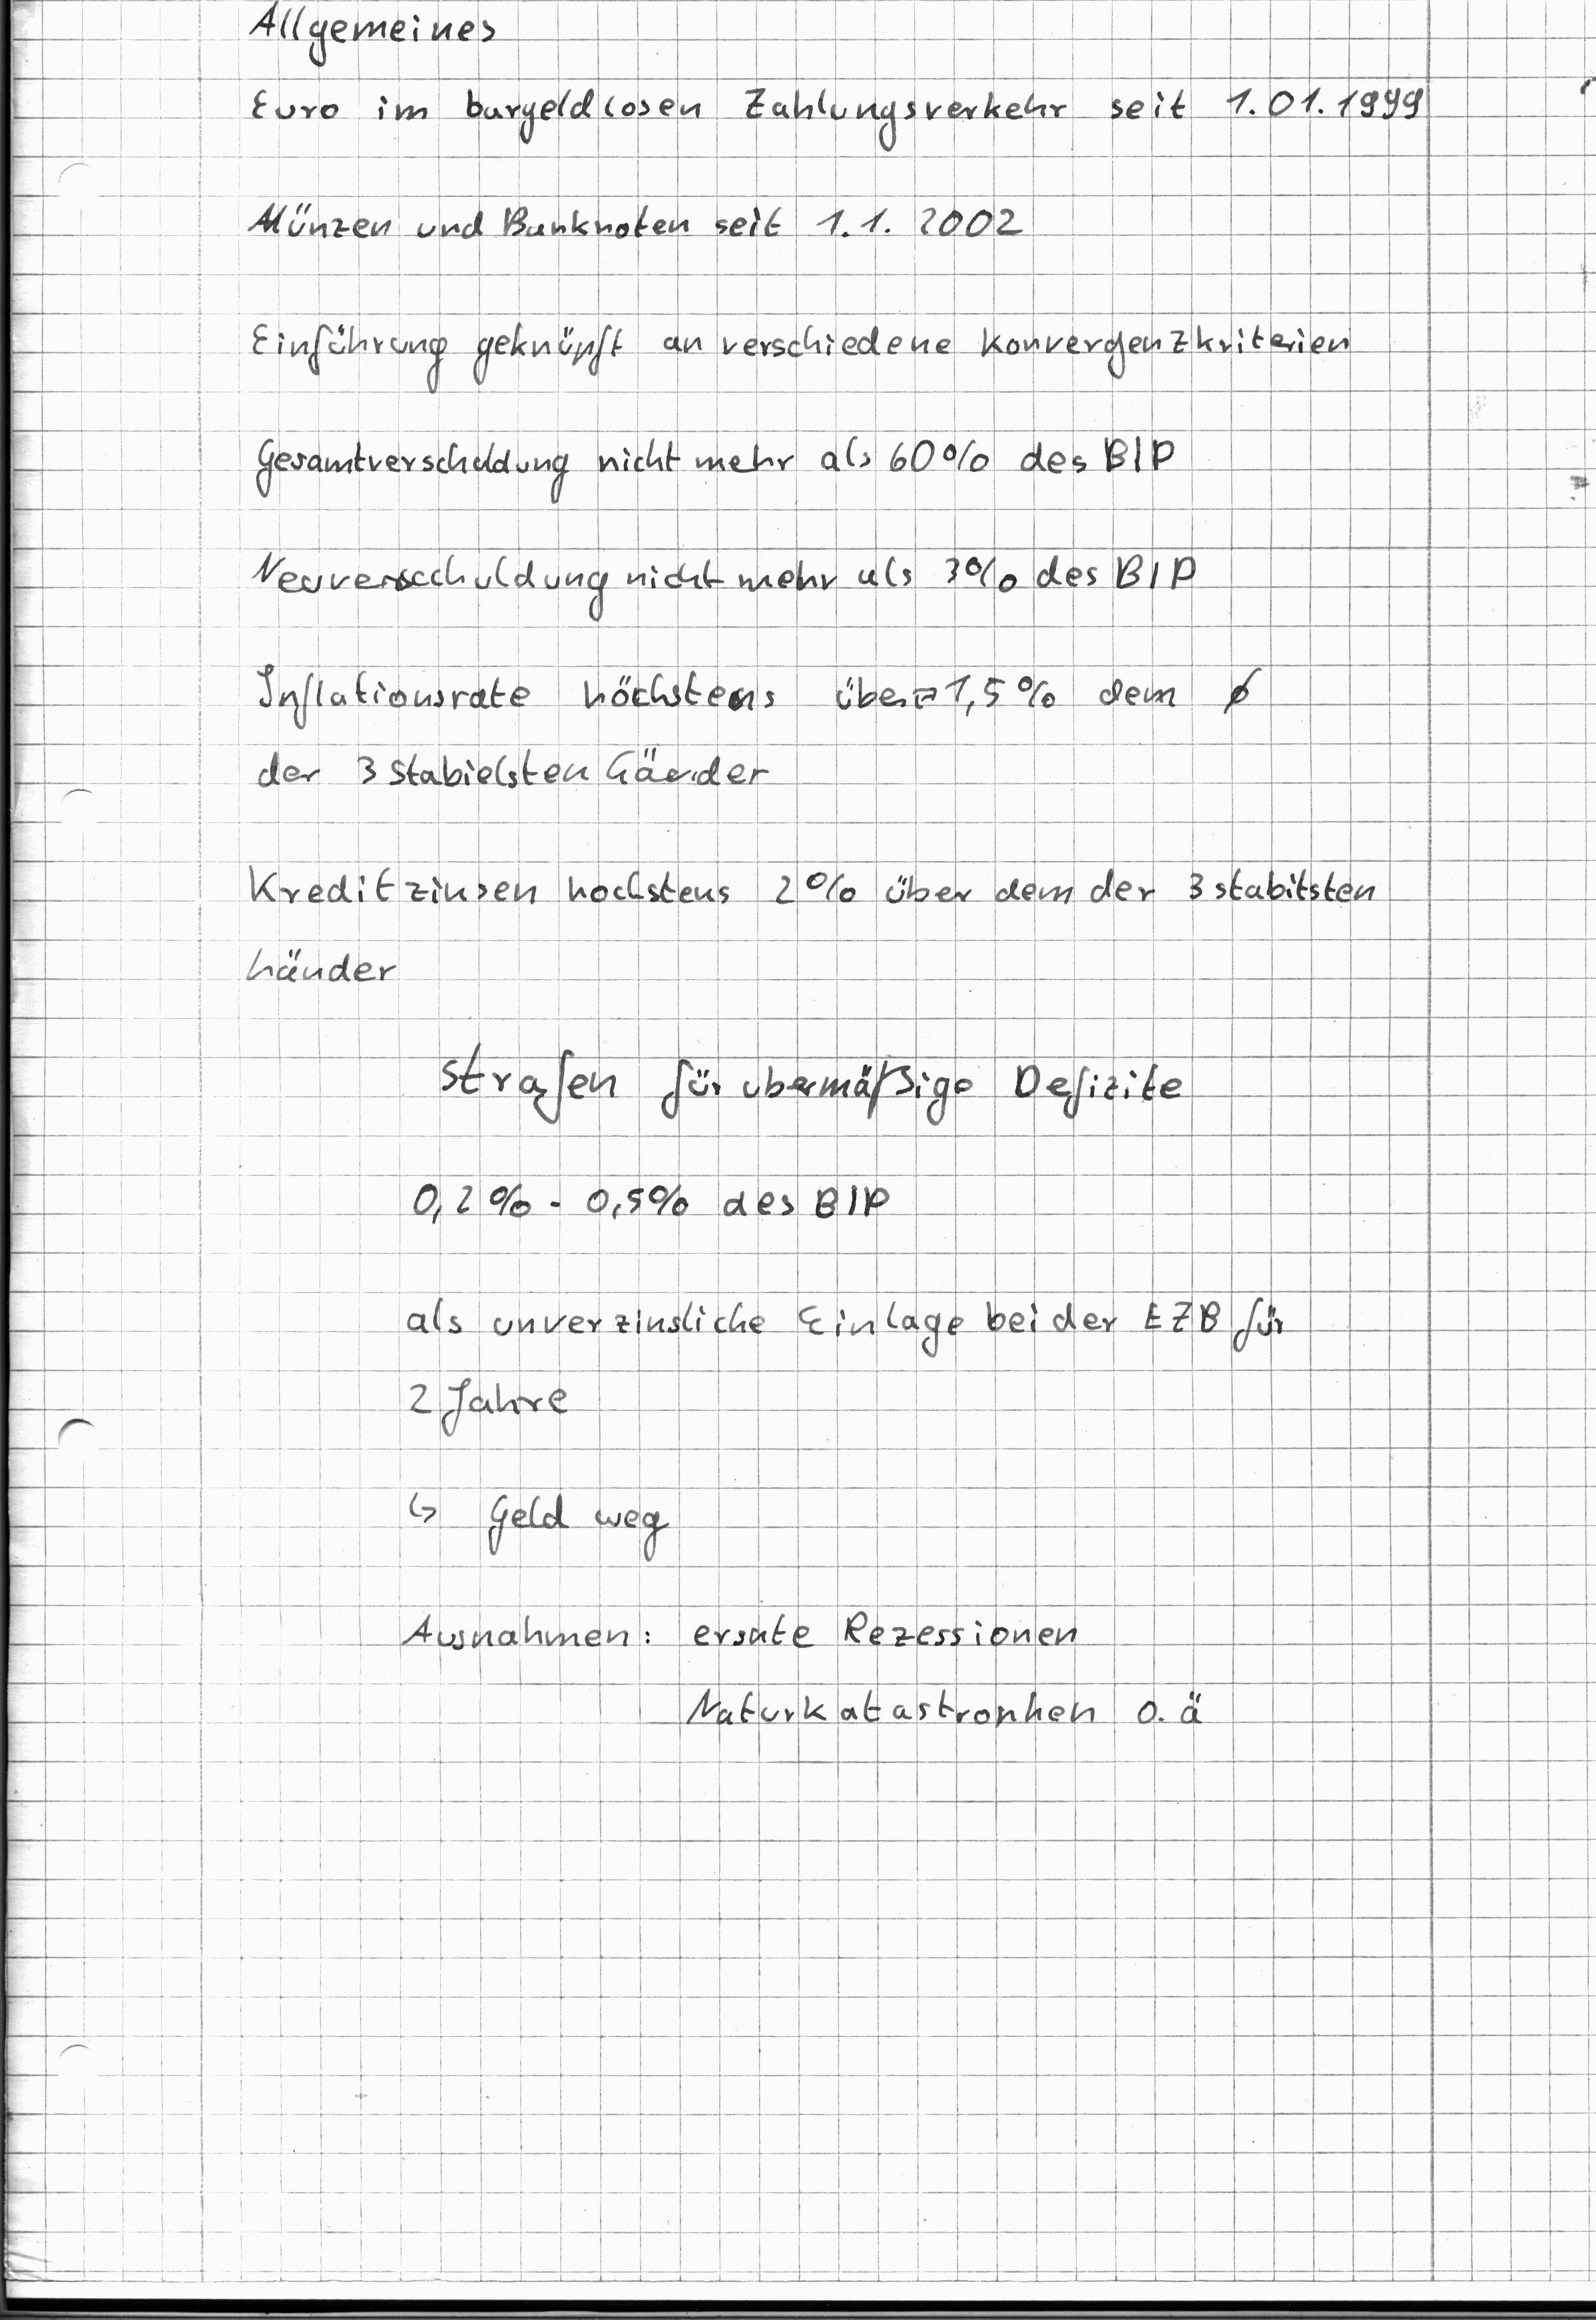word: (394, 1288, 1293, 1444), (228, 294, 1356, 394), (241, 414, 1179, 517), (248, 79, 1439, 158), (431, 1021, 1190, 1139), (238, 538, 1204, 630), (246, 653, 1274, 736), (241, 848, 1385, 920), (675, 1603, 1213, 1738), (234, 178, 1038, 266), (398, 1154, 906, 1254), (248, 741, 780, 802), (394, 1468, 688, 1578), (387, 1596, 661, 1661), (236, 936, 414, 999)
